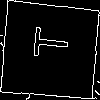T: (25, 25, 69, 60)
